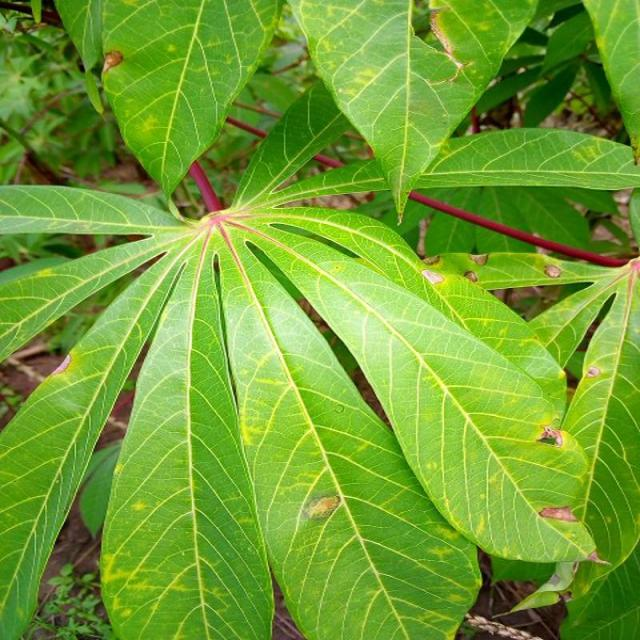cassava leaf: (1, 1, 636, 638), (98, 231, 276, 638), (99, 0, 282, 201)
